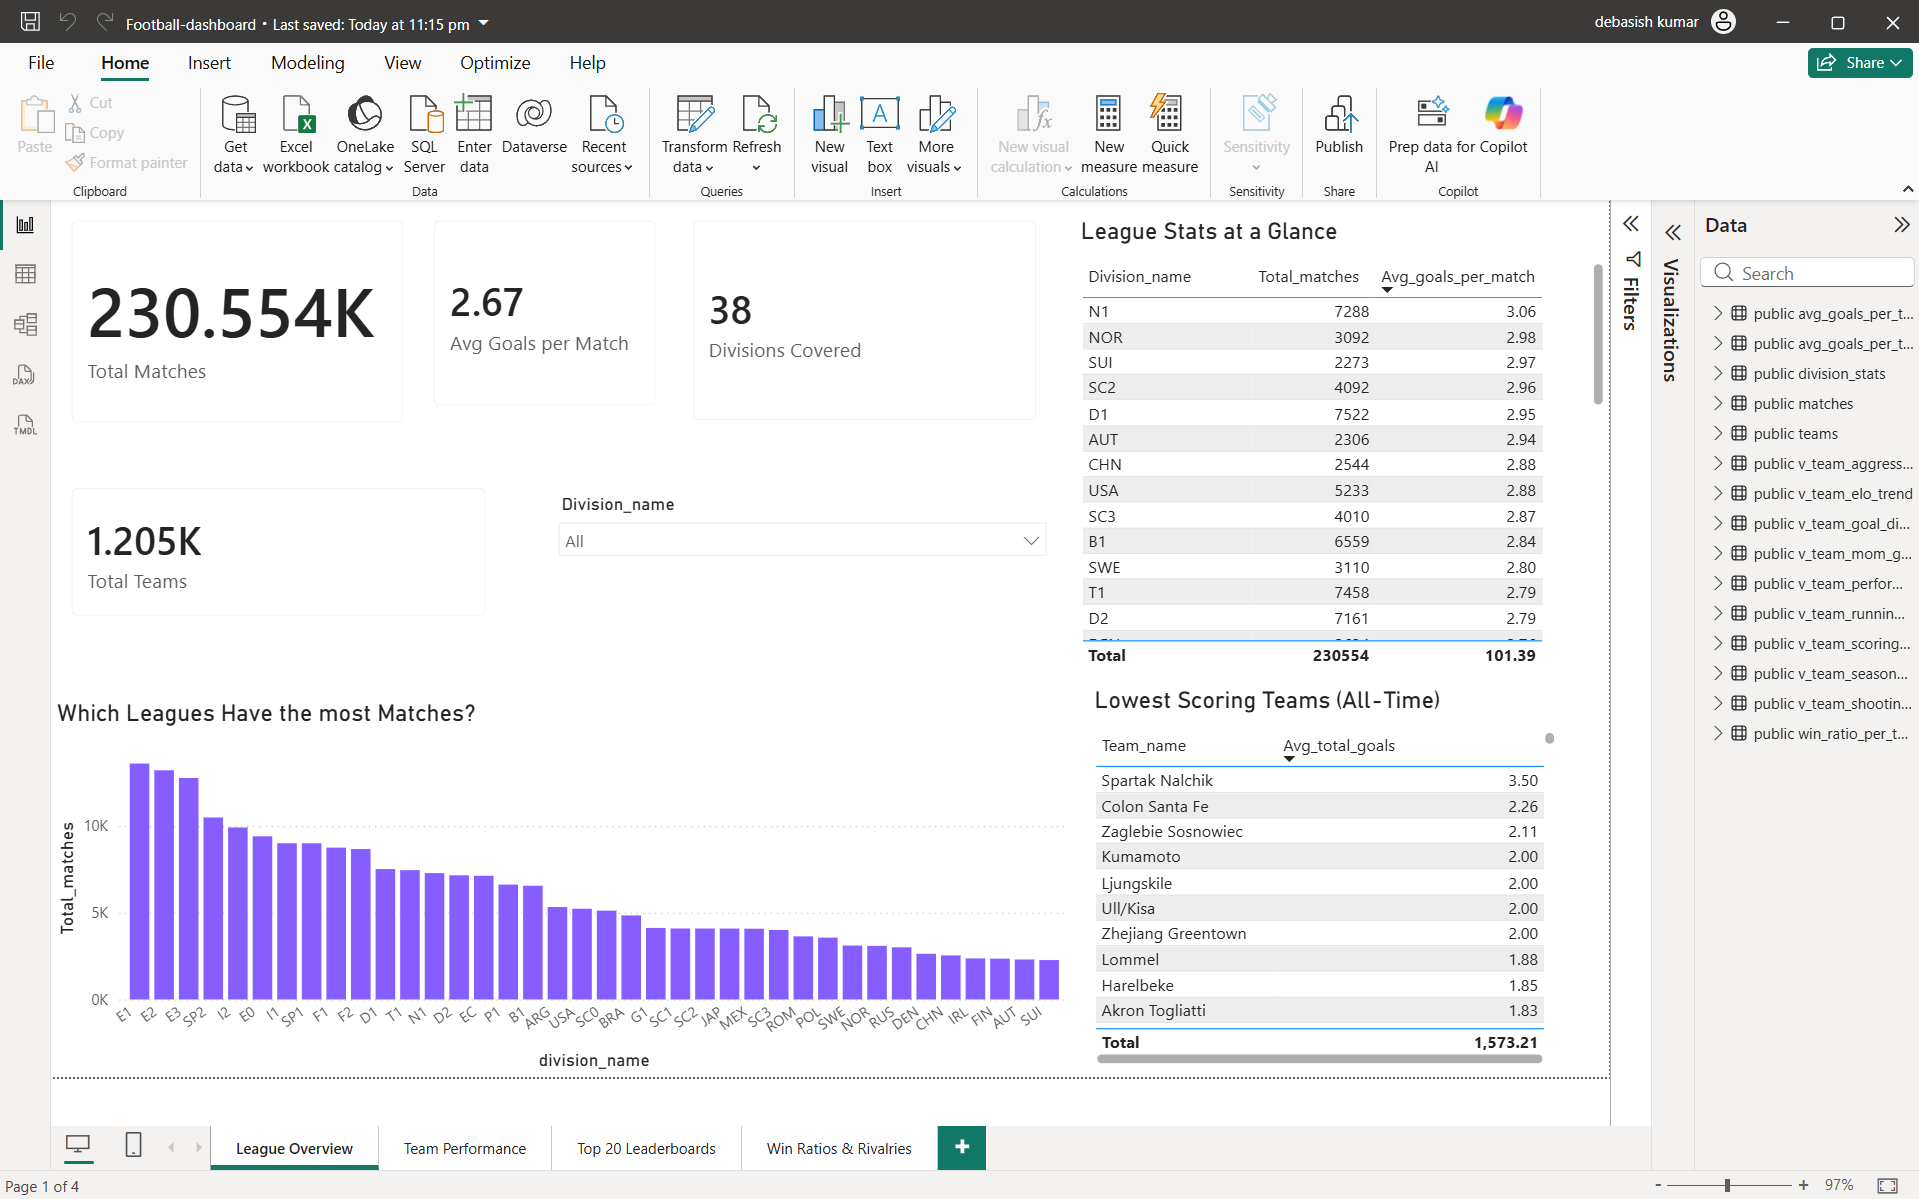

What the dashboard file says about the page in this screenshot:
{"tool":"powerbi","page":{"name":"League Overview","canvas":[1280,720],"ordinal":0},"visuals":[{"type":"tableEx","title":"Lowest Scoring Teams (All-Time)","fields":{"Values":["public avg_goals_per_team.team_name","Sum(public avg_goals_per_team.avg_total_goals)"]},"box":[852.1,399.3,388.3,315.6],"z":0},{"type":"columnChart","title":"Which Leagues Have  the most Matches?","fields":{"Category":["public division_stats.division_name"],"Y":["Sum(public division_stats.total_matches)"]},"box":[0,410.3,841.2,308.7],"z":1000},{"type":"cardVisual","fields":{"Data":["CountNonNull(public matches.match_id)"]},"box":[0,0,306,200.3],"z":2000},{"type":"cardVisual","fields":{"Data":["Count(public teams.team_name)"]},"box":[0,219.6,374.6,140],"z":3000},{"type":"cardVisual","fields":{"Data":["Count(public division_stats.division_name)"]},"box":[510.5,0,317,199],"z":4000},{"type":"cardVisual","fields":{"Data":["Avg(public division_stats.avg_goals_per_match)"]},"box":[297.8,0,216.8,186.6],"z":5000},{"type":"tableEx","title":"League Stats at a Glance","fields":{"Values":["public division_stats.division_name","Sum(public division_stats.total_matches)","Sum(public division_stats.avg_goals_per_match)"]},"box":[840.7,14,439.5,373.3],"z":6000},{"type":"slicer","fields":{"Values":["public division_stats.division_name"]},"box":[406.2,236,421.3,86.4],"z":6001}]}

Visuals, with their boxes on the page's 1280x720 design canvas (x1, y1, x2, y2). These are canvas units, not pixel positions in the 1919x1199 screenshot, which may show the page scaled, cropped or inside an application window:
"Lowest Scoring Teams (All-Time)" tableEx: bbox=(852, 399, 1240, 715)
"Which Leagues Have  the most Matches?" columnChart: bbox=(0, 410, 841, 719)
cardVisual - CountNonNull(public matches.match_id): bbox=(0, 0, 306, 200)
cardVisual - Count(public teams.team_name): bbox=(0, 220, 375, 360)
cardVisual - Count(public division_stats.division_name): bbox=(510, 0, 828, 199)
cardVisual - Avg(public division_stats.avg_goals_per_match): bbox=(298, 0, 515, 187)
"League Stats at a Glance" tableEx: bbox=(841, 14, 1280, 387)
slicer - public division_stats.division_name: bbox=(406, 236, 828, 322)
